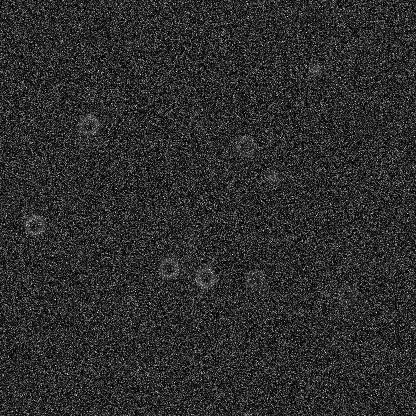Ring: (169, 238, 193, 262), (156, 256, 180, 280), (76, 112, 100, 136), (243, 267, 267, 291), (233, 134, 257, 158), (272, 4, 296, 28), (334, 283, 358, 307), (193, 265, 217, 289), (22, 212, 46, 236)
Spot: (131, 35, 147, 51), (307, 61, 323, 77), (265, 169, 281, 185)
